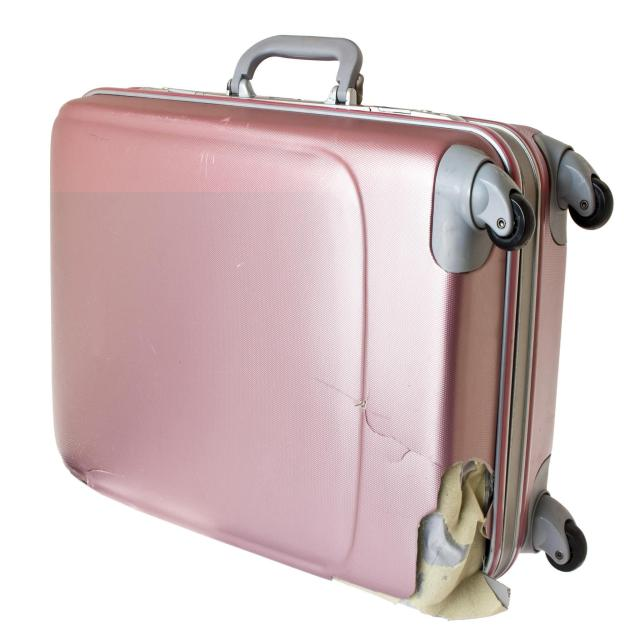Damage-bag: (355, 399, 510, 619)
